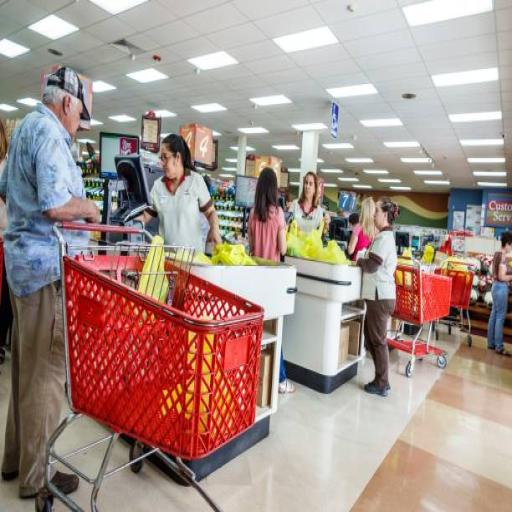shopping_cart: (34, 221, 264, 512), (392, 262, 448, 378), (432, 266, 476, 350)
